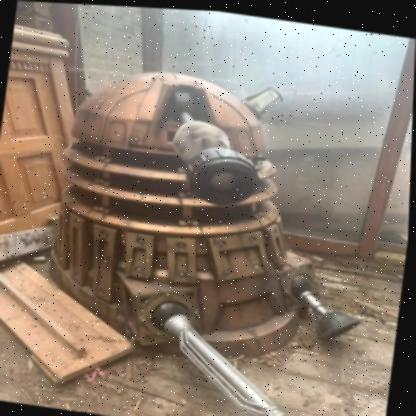dalek: (3, 18, 384, 416)
